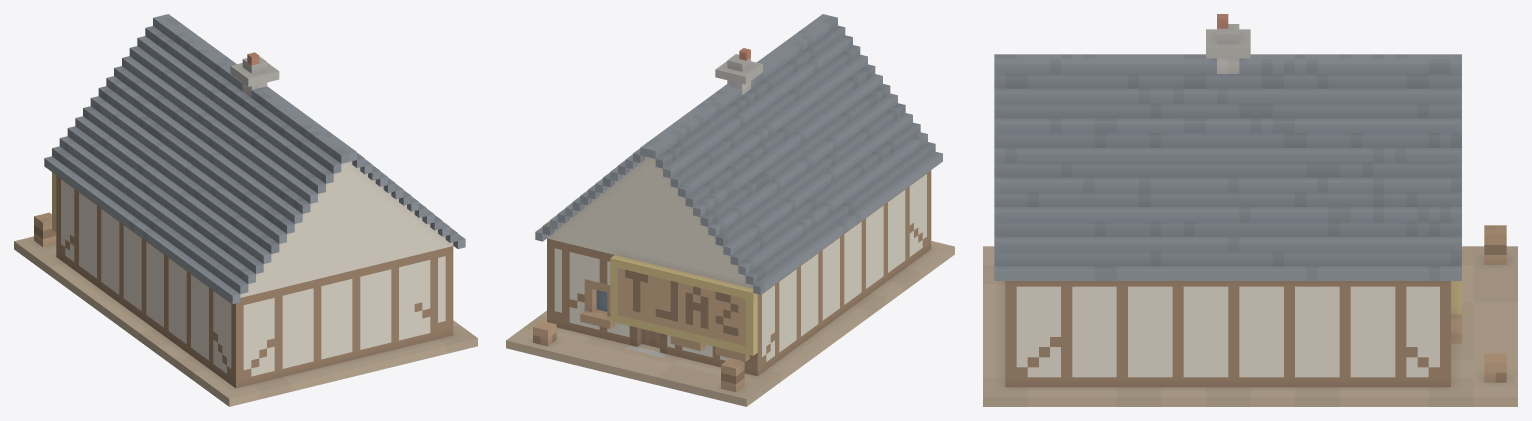
File: salt_works.glb
The picture shows the model from 3 angles, left to right: view 1: azimuth 30°, elevation 25°; view 2: azimuth 150°, elevation 25°; view 3: azimuth 270°, elevation 25°; orthographic projection. The views are drawn at different scales.
Visible parts, largest first — view 1: salt_works; view 2: salt_works; view 3: salt_works.
Part boxes in pixels (left/top/right/bottom): salt_works: left=14, top=14, right=477, bottom=406; salt_works: left=506, top=14, right=954, bottom=406; salt_works: left=983, top=14, right=1517, bottom=406.
Size of the model in its own units: 4 by 3.88 by 6.
